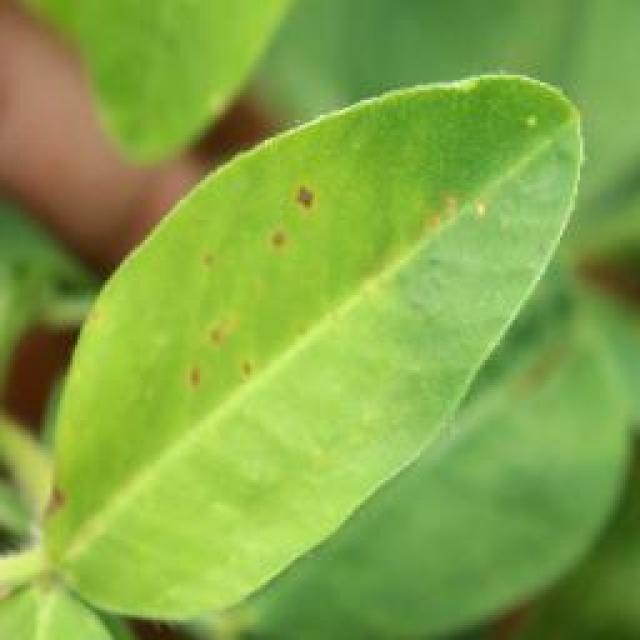Sigatoka: (158, 298, 254, 413), (408, 156, 473, 239), (268, 176, 320, 274), (22, 461, 92, 531), (182, 228, 235, 288)
